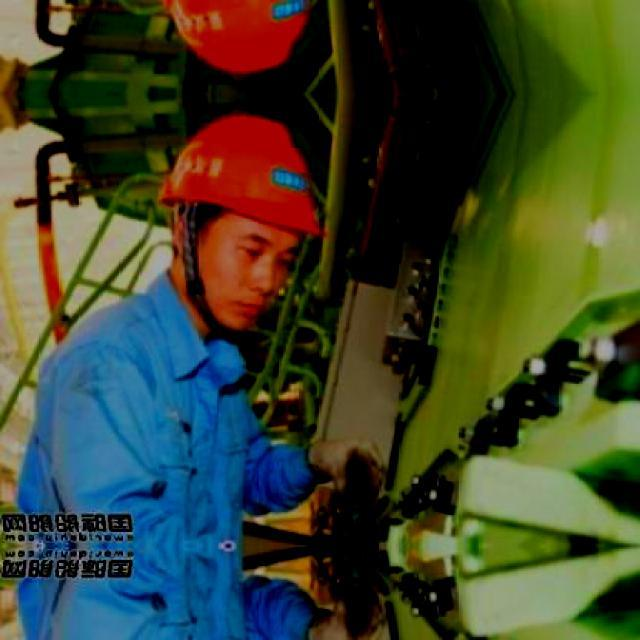safetyhelmet: (159, 108, 330, 265)
